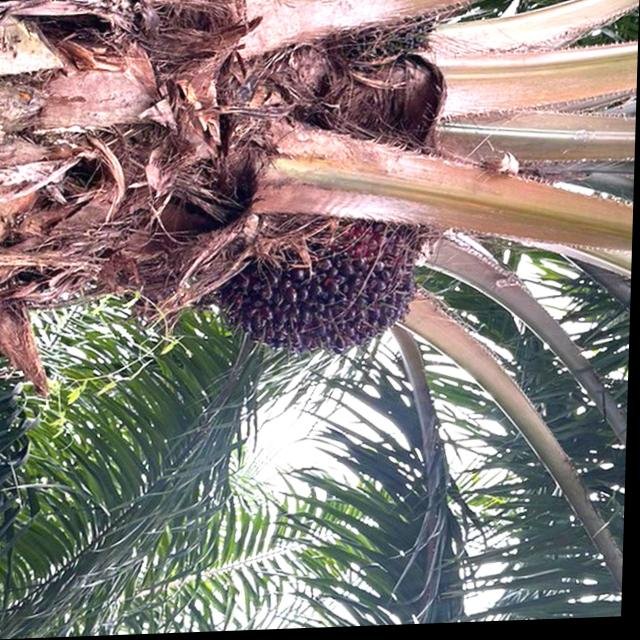ripe: (195, 201, 451, 374)
